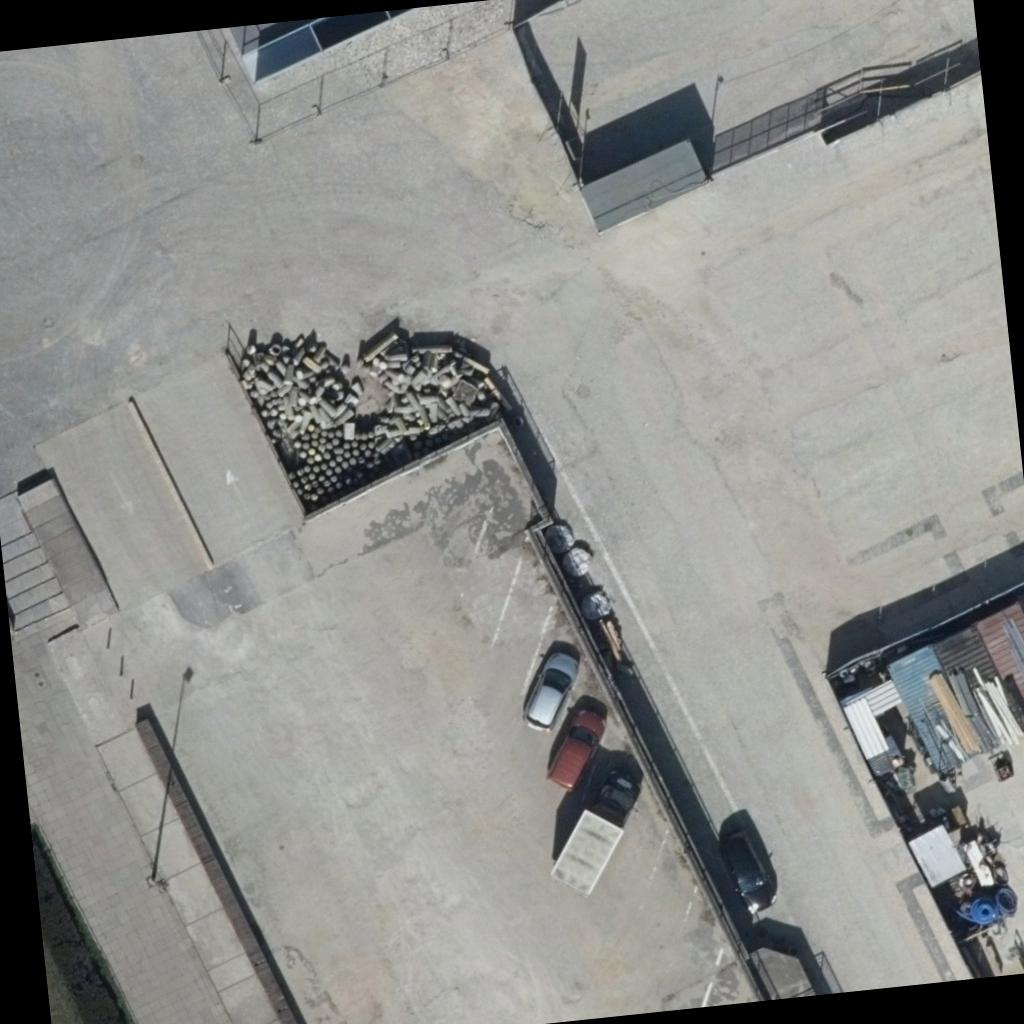samochod_osobowy: (541, 708, 610, 792), (519, 650, 583, 732), (720, 828, 776, 916), (590, 766, 642, 828)
